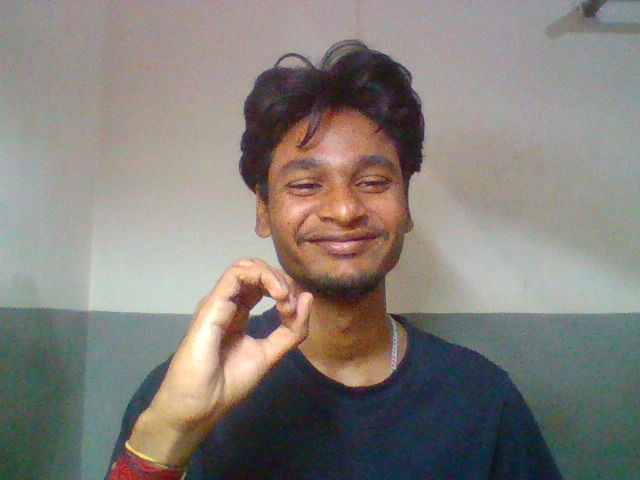O: (139, 250, 330, 438)
